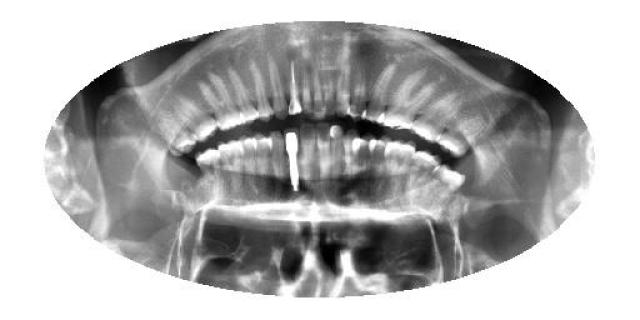Implant: (282, 126, 302, 195), (285, 55, 301, 121)
